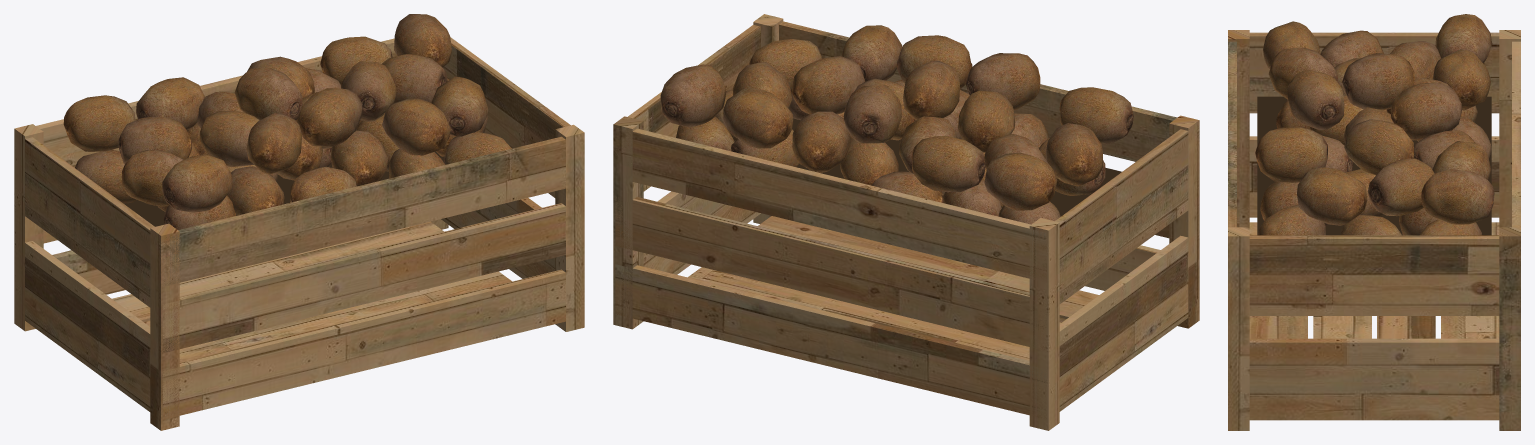
Rendered from skrzynka_kiwi.glb.
3 views of the same model, side by side, from view 1: azimuth 30°, elevation 25°; view 2: azimuth 150°, elevation 25°; view 3: azimuth 270°, elevation 25° (orthographic). The views are drawn at different scales.
Visible parts, largest first — view 1: skrzynka, kiwi, dno; view 2: skrzynka, kiwi, dno; view 3: skrzynka, kiwi, dno.
Part boxes in pixels (<box>): skrzynka: <box>14,37,584,430</box>; kiwi: <box>63,14,511,229</box>; dno: <box>124,151,444,226</box>; skrzynka: <box>613,14,1199,430</box>; kiwi: <box>660,25,1133,224</box>; dno: <box>792,118,1121,216</box>; skrzynka: <box>1228,30,1520,430</box>; kiwi: <box>1255,14,1494,235</box>; dno: <box>1257,96,1491,235</box>.
Size of the model in its own units: 0.5 by 0.292 by 0.3.
Materials: 3 (3 with a texture image).
